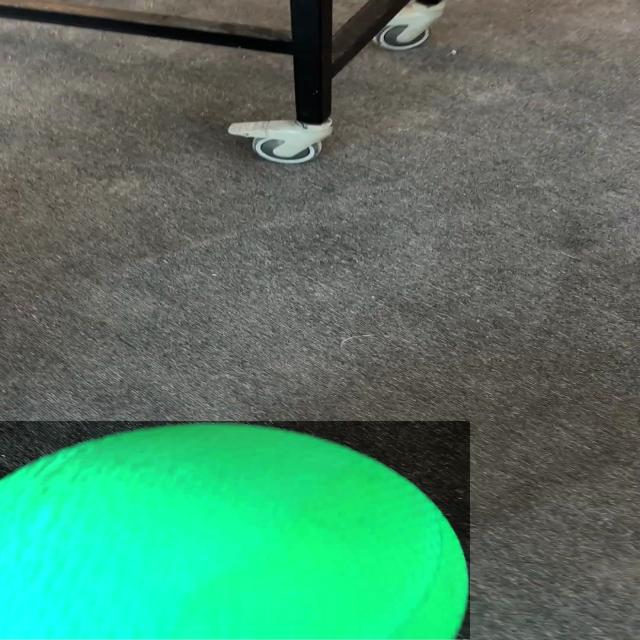Algae: (1, 421, 470, 639)
